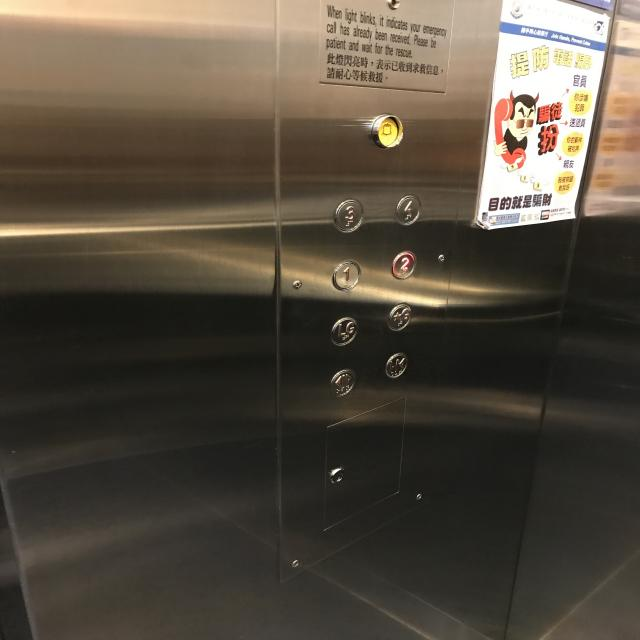1: (330, 260, 361, 292)
2: (390, 250, 417, 280)
3: (333, 197, 365, 233)
4: (393, 194, 422, 226)
LG: (329, 316, 358, 346)
alarm: (370, 112, 405, 149)
close: (383, 352, 408, 379)
open: (328, 369, 356, 397)
sG: (386, 302, 412, 332)
